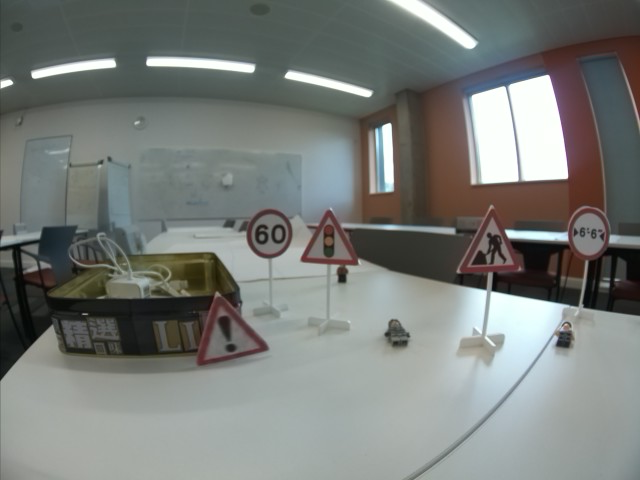60mph: (245, 208, 293, 258)
6ft6: (567, 207, 611, 260)
Lego Man: (551, 319, 578, 349), (386, 315, 409, 349), (337, 266, 351, 285)
Roadworks: (457, 207, 523, 275)
Traffic lights: (299, 208, 362, 264)
Warning: (195, 295, 269, 365)
